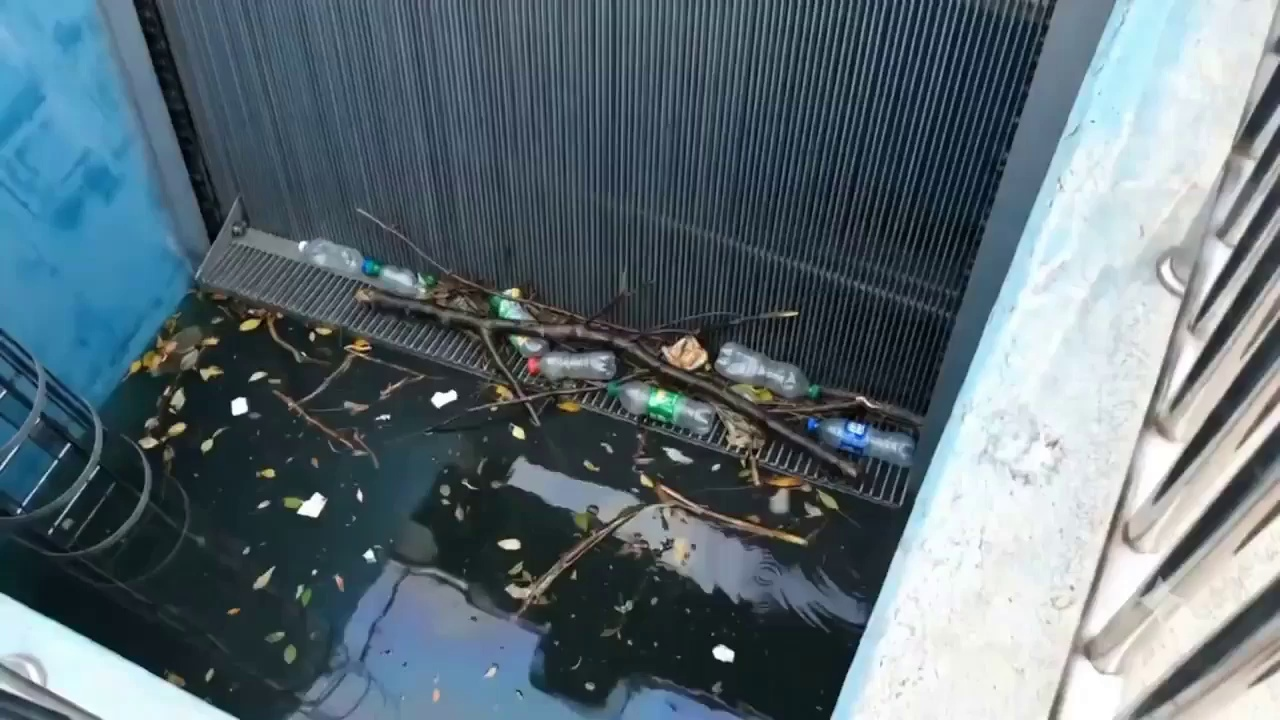debris: (298, 240, 914, 477)
